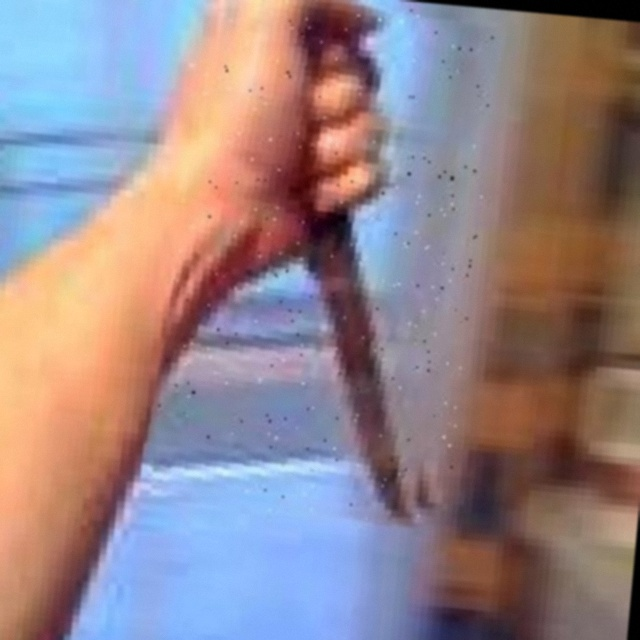Sharp-Object: (150, 0, 499, 527)
